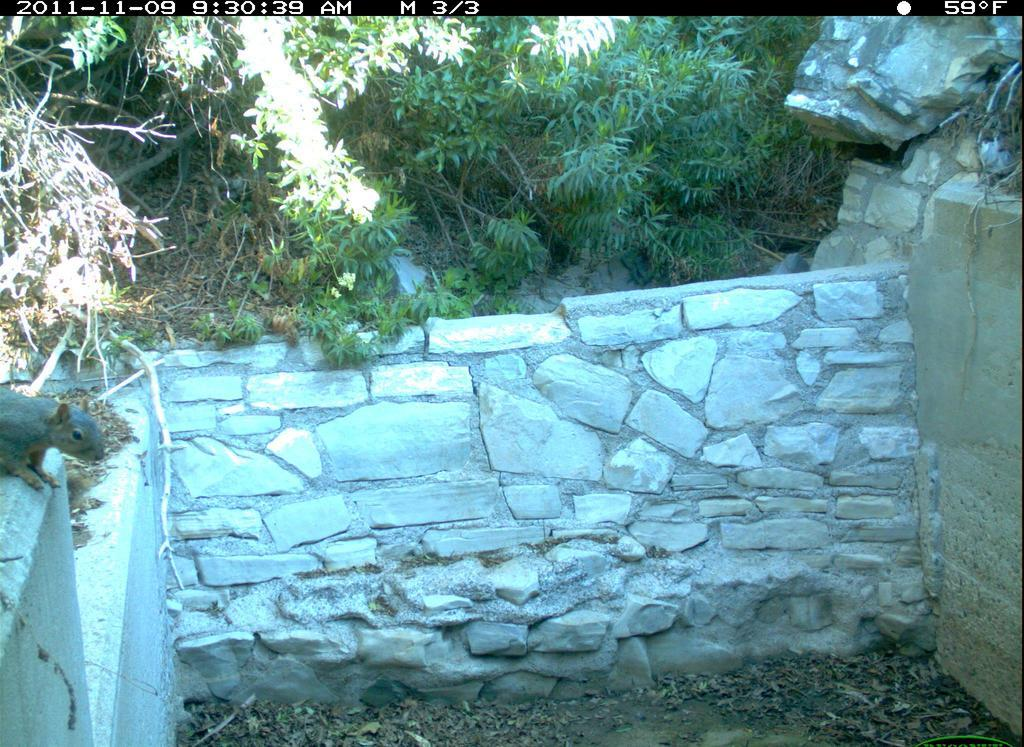squirrel: (1, 381, 113, 496)
